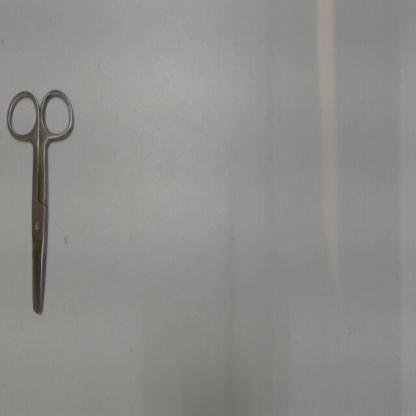Dressing Scissors: (1, 80, 83, 322)
